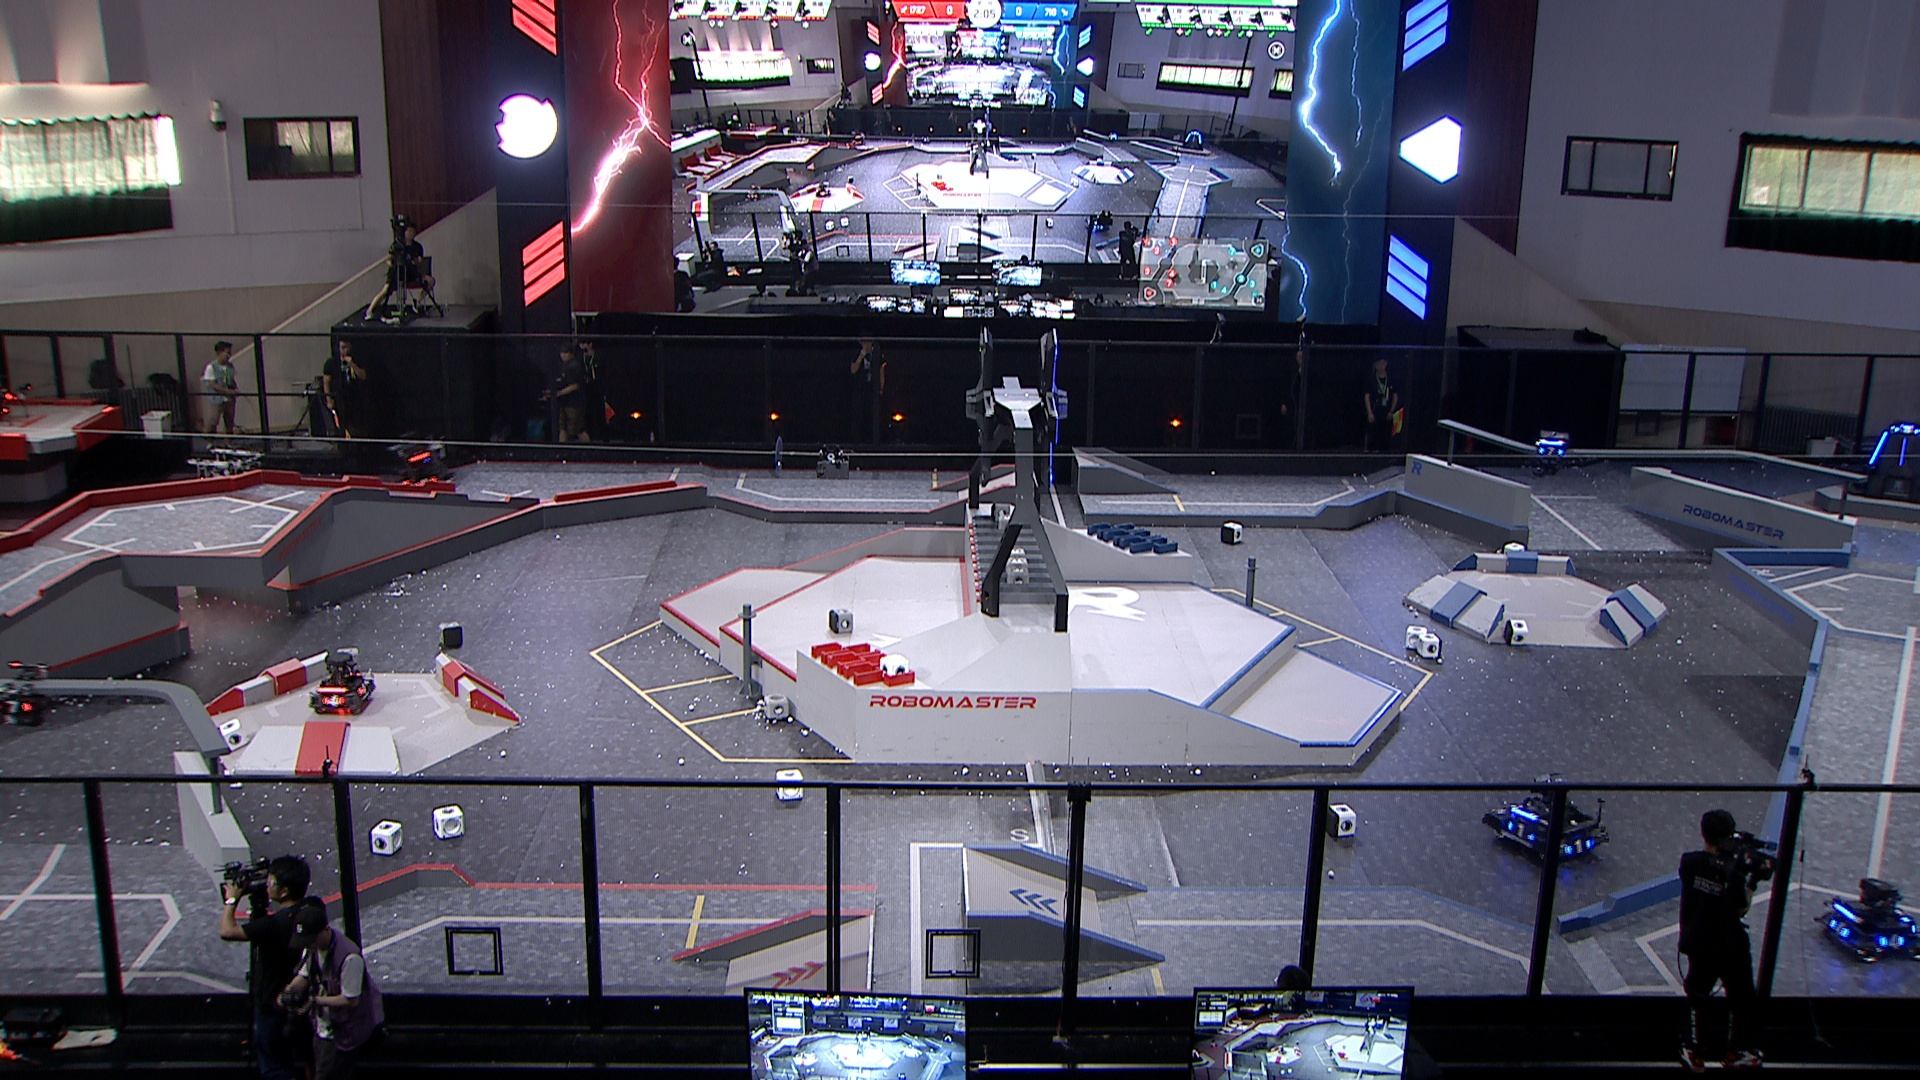armor: (1509, 822, 1538, 845), (1869, 431, 1888, 465), (1828, 918, 1851, 942), (0, 699, 32, 716), (1565, 840, 1594, 858), (1890, 907, 1915, 924), (1880, 934, 1907, 949), (1898, 438, 1909, 469), (320, 694, 345, 708), (1538, 446, 1567, 458), (1892, 425, 1920, 436), (357, 684, 371, 699)
base: (1846, 425, 1920, 506)
car: (1482, 777, 1610, 866), (1811, 880, 1920, 964), (186, 444, 268, 527), (386, 433, 456, 498), (306, 651, 377, 716)
ignore: (1087, 210, 1112, 233), (1182, 129, 1205, 150), (847, 131, 868, 148), (746, 183, 766, 200), (814, 181, 832, 196), (1106, 133, 1117, 145)
watcher: (1534, 431, 1571, 476)
